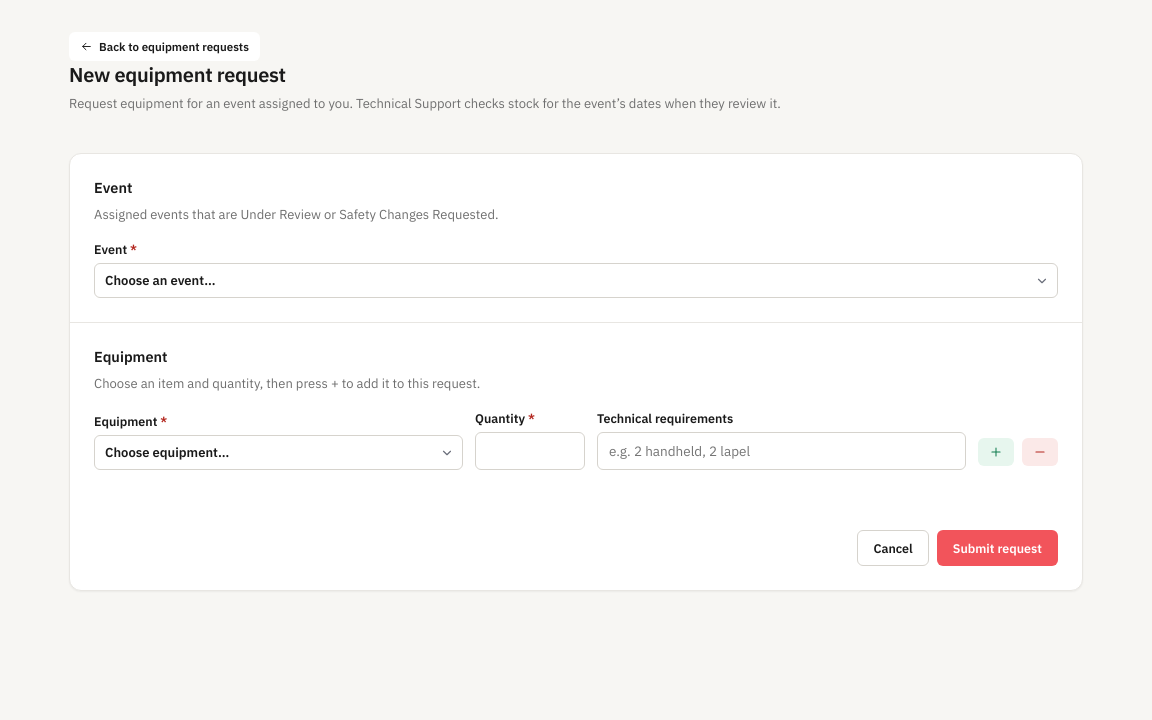
Test: + refuses an incomplete row (equipment , quantity 3)
Expected: the dropdown labelled "Event *" is shown, 94,263 -> 1058,298
Type "3" into the number field labelled "Quantity *".
click(530, 451); type("3")  # box 475,432 -> 585,470
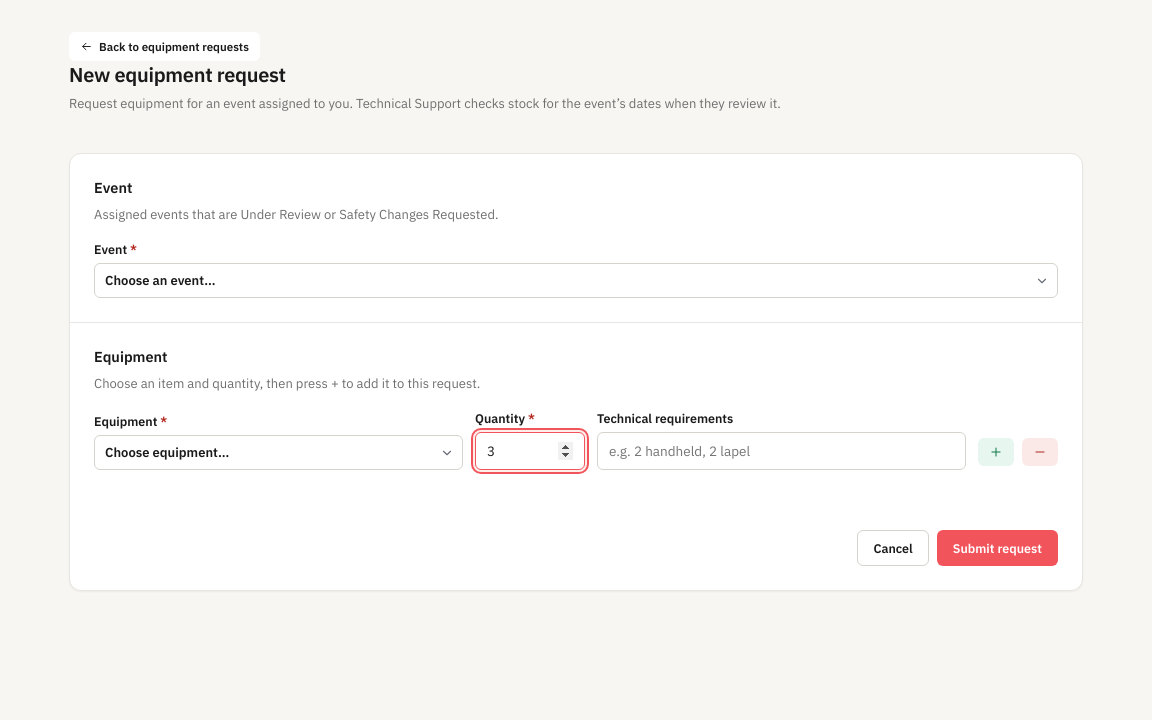
Click the button named "Add this equipment".
click(996, 452)  # box 978,438 -> 1014,466
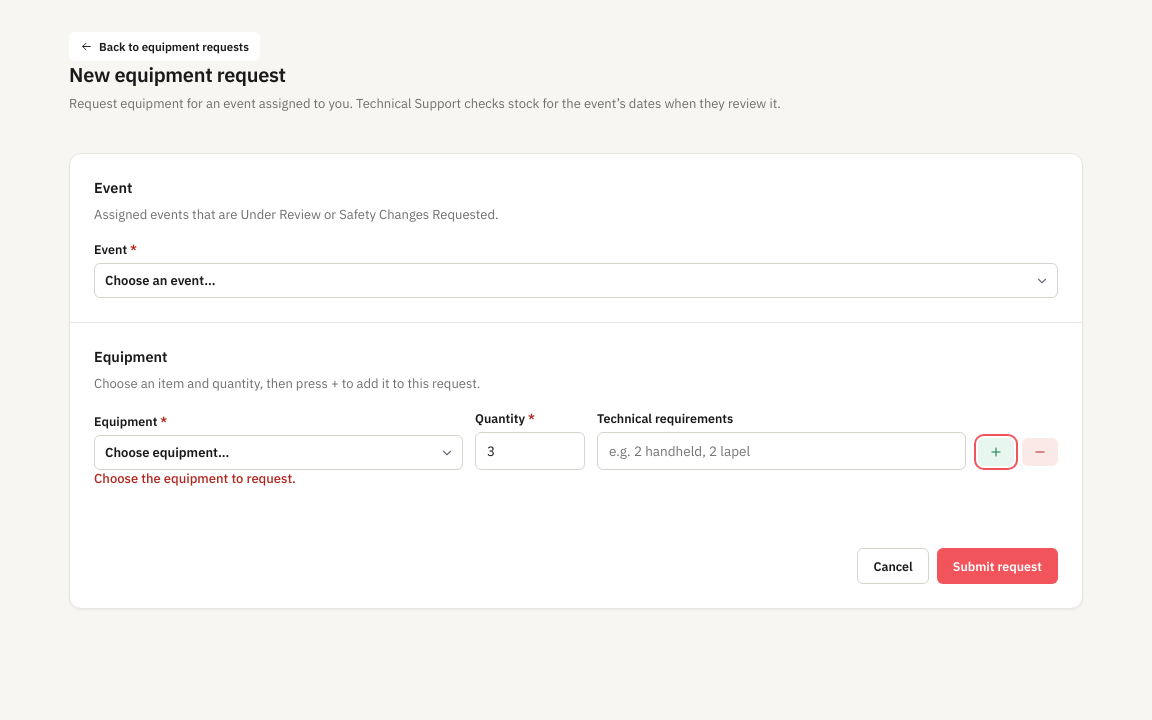
Now the message reads "Choose the equipment to request.", box 94,470 -> 296,487
